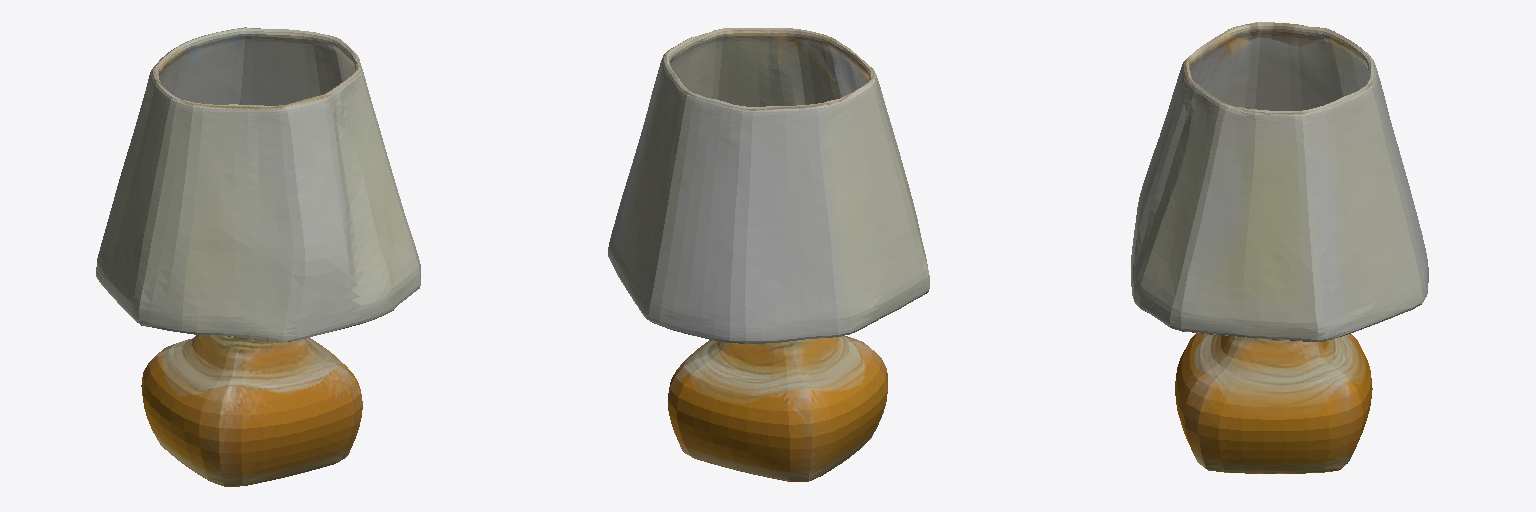
3 renders of one model, left to right at view 1: azimuth 30°, elevation 25°; view 2: azimuth 150°, elevation 25°; view 3: azimuth 270°, elevation 25°, orthographic.
Visible parts, largest first — view 1: tripo_node_7de76ea4_1c83_4e6f_bc5d_[number redacted]c7; view 2: tripo_node_7de76ea4_1c83_4e6f_bc5d_[number redacted]c7; view 3: tripo_node_7de76ea4_1c83_4e6f_bc5d_[number redacted]c7.
Boxes of the visible parts, x1,y1,x2,y2 form: tripo_node_7de76ea4_1c83_4e6f_bc5d_[number redacted]c7: [96, 27, 420, 486]; tripo_node_7de76ea4_1c83_4e6f_bc5d_[number redacted]c7: [608, 28, 929, 481]; tripo_node_7de76ea4_1c83_4e6f_bc5d_[number redacted]c7: [1131, 22, 1428, 473].
Size of the model in its own units: 0.293 by 0.3806 by 0.2707.
Materials: 1 (1 with a texture image).